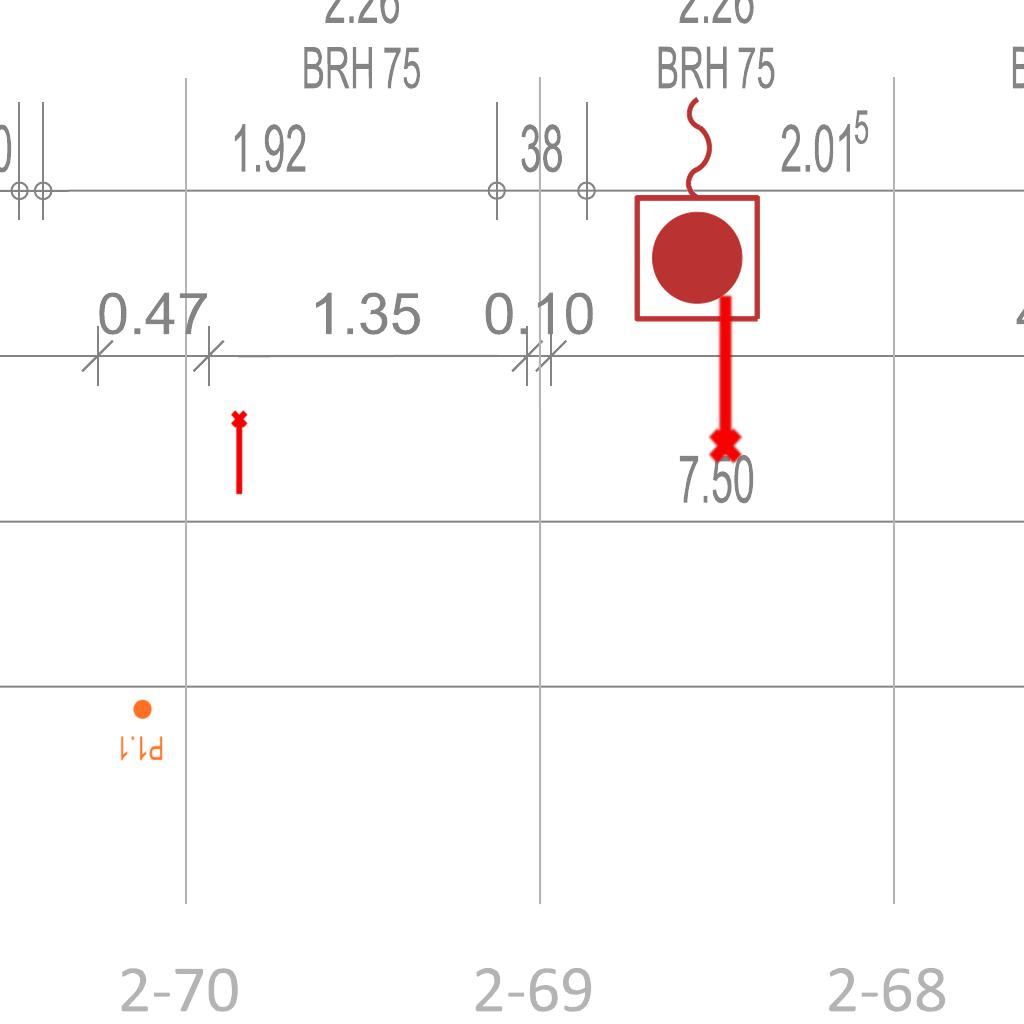ASR_Ansaugoeffnung: (700, 290, 746, 466), (229, 409, 252, 497)
Downlight_LED_Einbauleuchten_Flur: (118, 698, 164, 762)
Zugtaster: (627, 86, 771, 330)
